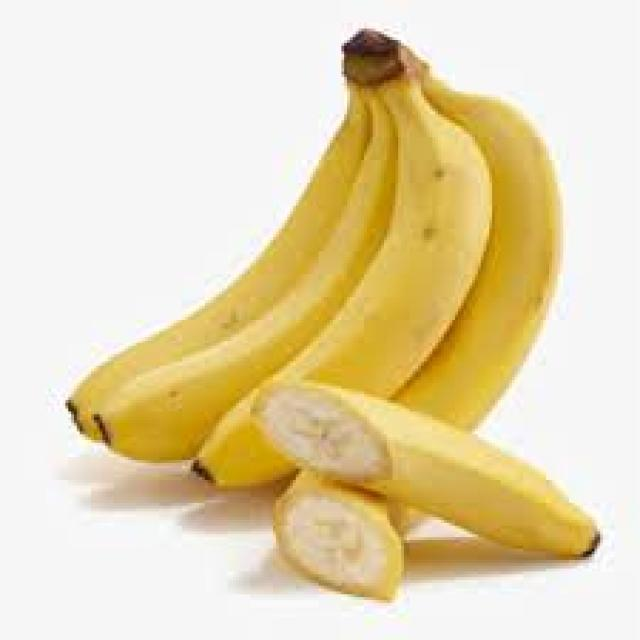banana: (71, 23, 560, 489), (247, 381, 593, 584)
